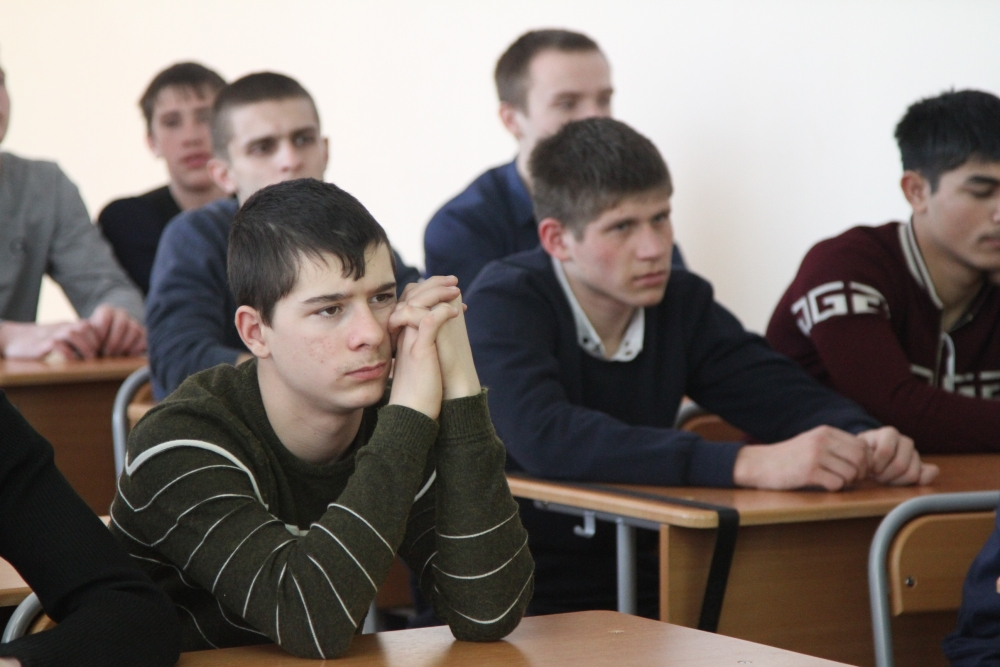students: (104, 176, 536, 660), (463, 115, 942, 491), (760, 86, 1000, 450), (147, 72, 330, 404), (426, 28, 614, 297), (1, 64, 152, 361), (97, 62, 230, 299)
